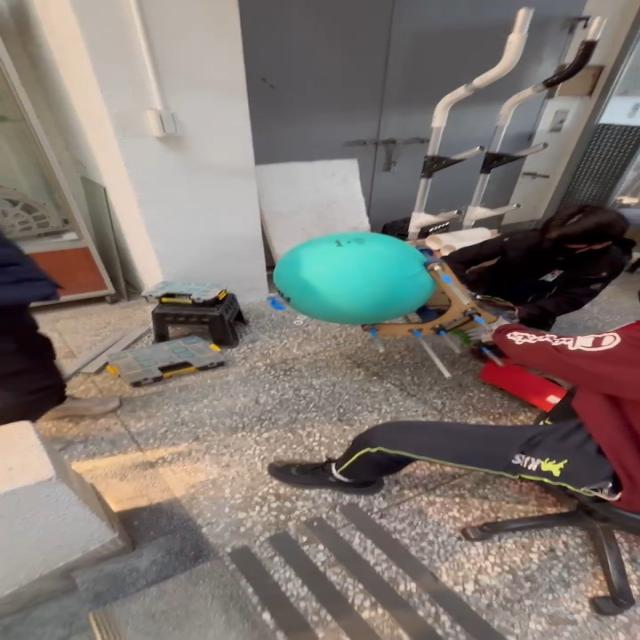ALGAE: (270, 230, 438, 326)
